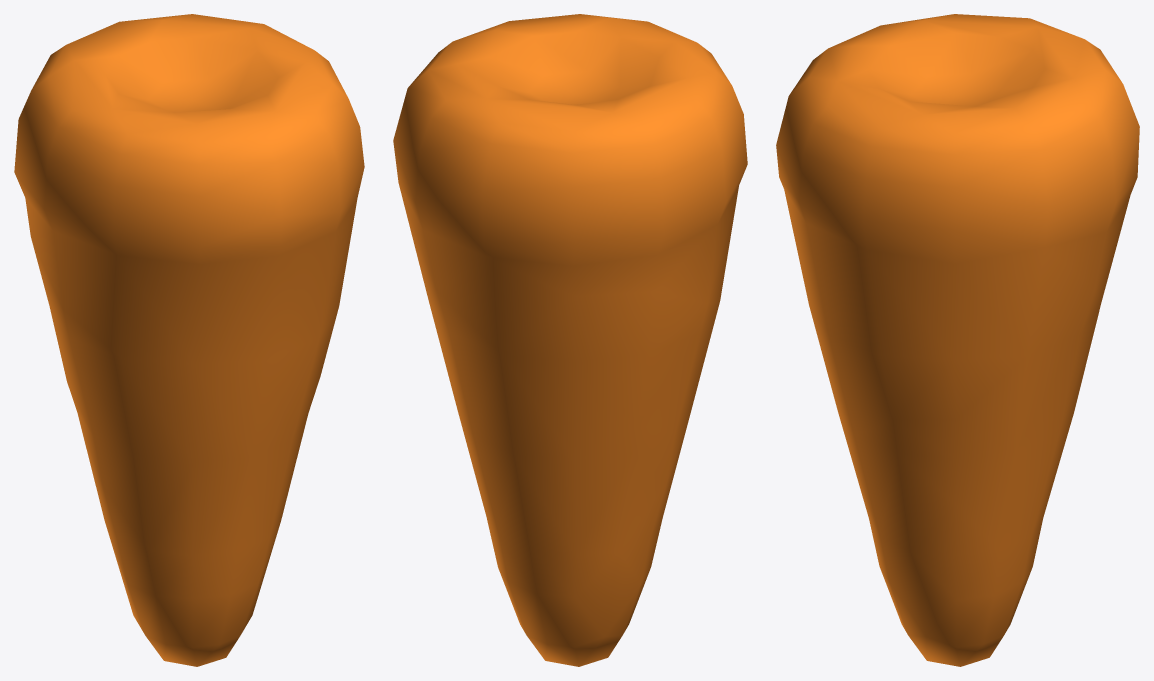
File: Carrot_Projectil.fbx
3 renders of one model, left to right at view 1: azimuth 30°, elevation 25°; view 2: azimuth 150°, elevation 25°; view 3: azimuth 270°, elevation 25°, orthographic.
Parts seen in each view (by area): view 1: Cylinder; view 2: Cylinder; view 3: Cylinder.
Part boxes in pixels (box(x1,y1,x2,y2)): Cylinder: box(14, 14, 364, 666); Cylinder: box(393, 14, 747, 666); Cylinder: box(776, 14, 1139, 666).
Bounding box in the file's own units: 23.97 × 45.31 × 25.04.
